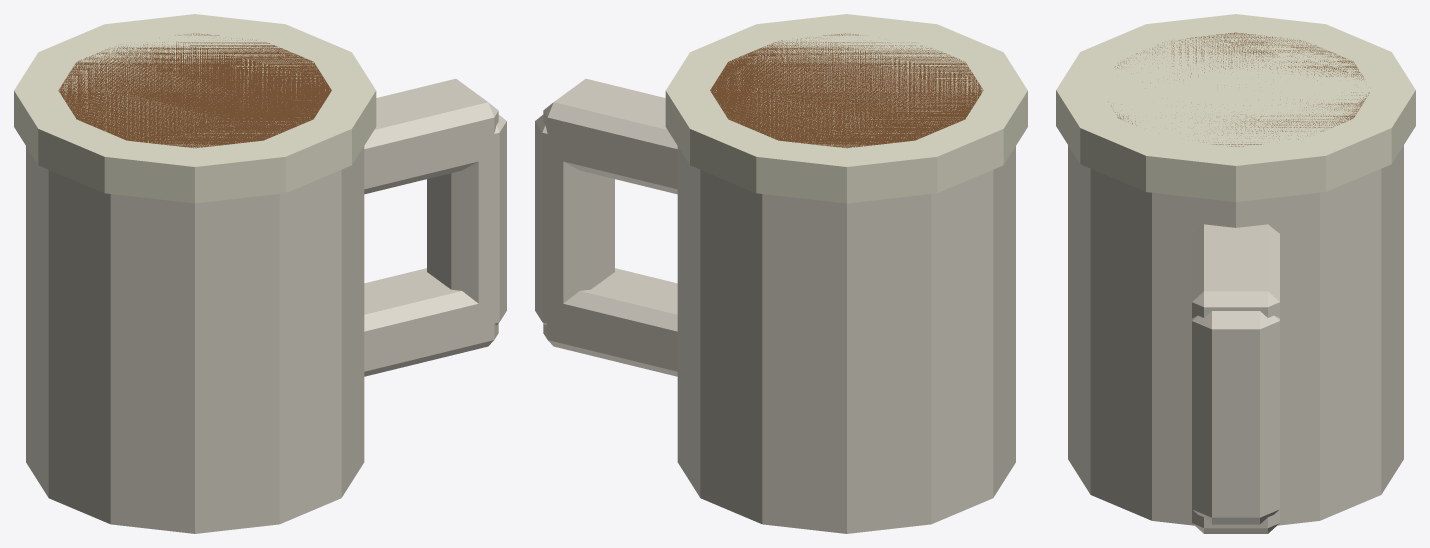
The model's file is coffee_mug.glb.
3 views of the same model, side by side, from view 1: azimuth 30°, elevation 25°; view 2: azimuth 150°, elevation 25°; view 3: azimuth 270°, elevation 25° (orthographic).
Visible parts, largest first — view 1: coffee_mug__white, coffee_mug__paper, coffee_mug__oak_dark; view 2: coffee_mug__white, coffee_mug__paper, coffee_mug__oak_dark; view 3: coffee_mug__white, coffee_mug__paper, coffee_mug__oak_dark.
Part boxes in pixels (left/top/right/bottom): coffee_mug__white: left=26, top=78, right=506, bottom=533; coffee_mug__paper: left=14, top=14, right=376, bottom=203; coffee_mug__oak_dark: left=58, top=33, right=331, bottom=148; coffee_mug__white: left=535, top=78, right=1015, bottom=533; coffee_mug__paper: left=665, top=14, right=1027, bottom=203; coffee_mug__oak_dark: left=710, top=33, right=983, bottom=148; coffee_mug__white: left=1068, top=145, right=1403, bottom=533; coffee_mug__paper: left=1056, top=14, right=1415, bottom=202; coffee_mug__oak_dark: left=1111, top=32, right=1369, bottom=146.
Bounding box in the file's own units: 0.131 × 0.102 × 0.09.
